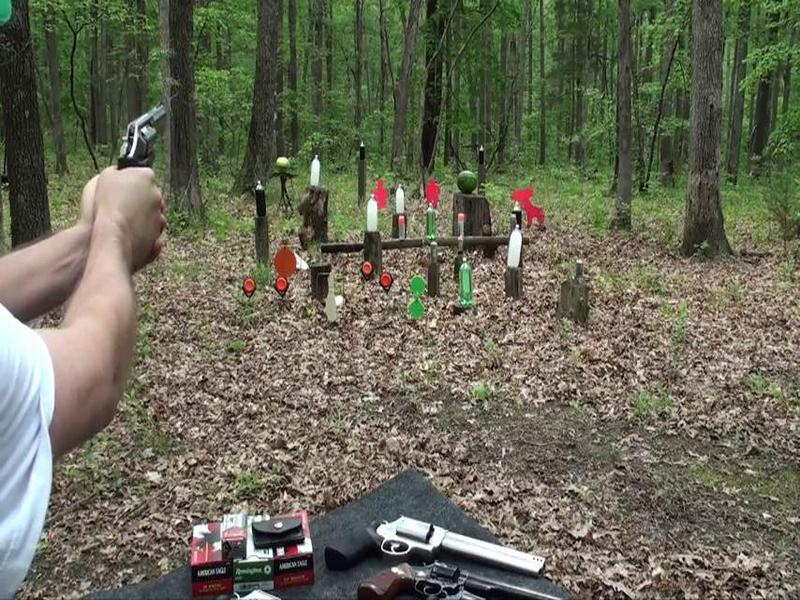Revolver: (110, 92, 186, 204)
